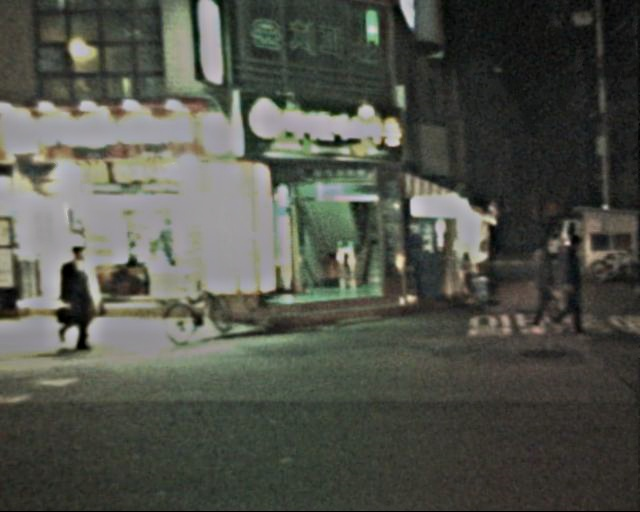person: (533, 230, 596, 344), (503, 230, 567, 338), (47, 245, 101, 353)
